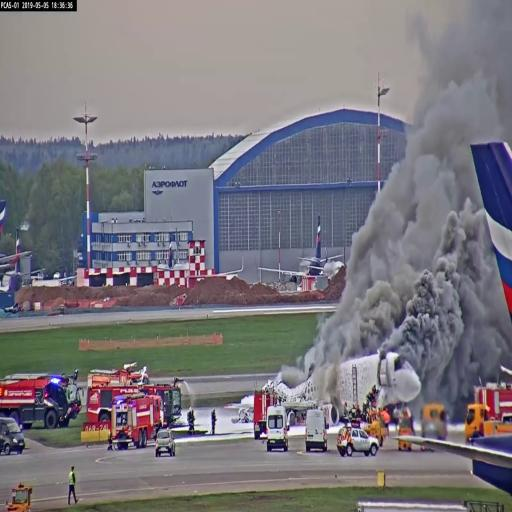smoke: (415, 0, 511, 141), (418, 189, 487, 362), (400, 255, 458, 366), (346, 265, 406, 347)
